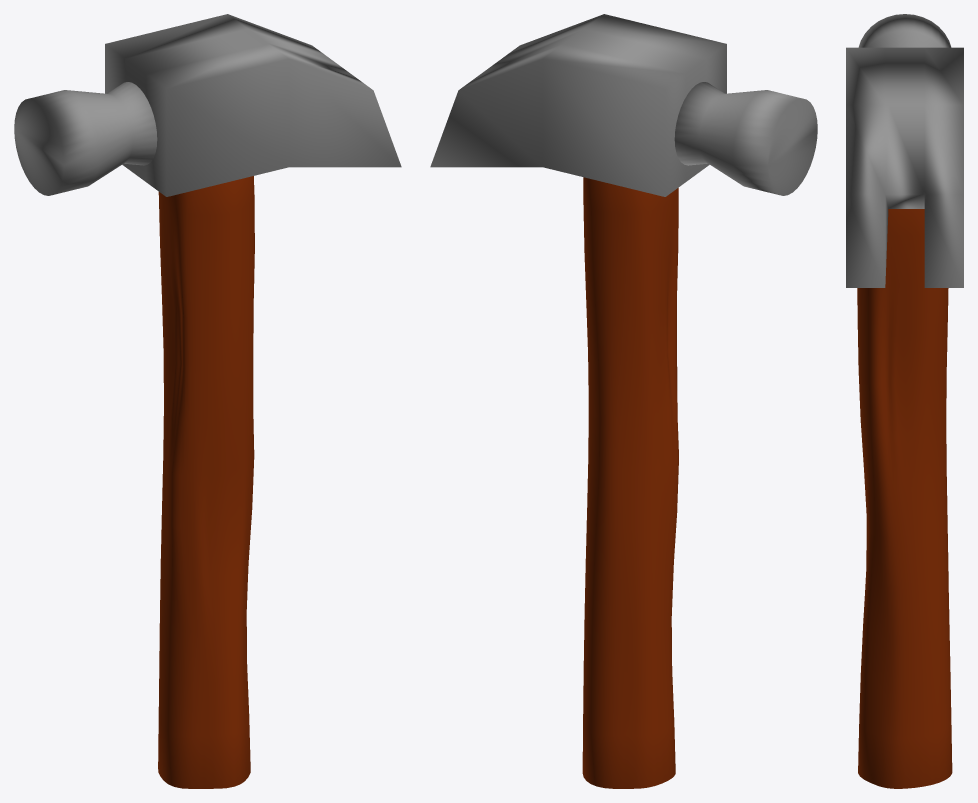
Rendered from hammer.fbx.
3 views of the same model, side by side, from view 1: azimuth 30°, elevation 25°; view 2: azimuth 150°, elevation 25°; view 3: azimuth 270°, elevation 25° (orthographic). The views are drawn at different scales.
Visible parts, largest first — view 1: Hammer; view 2: Hammer; view 3: Hammer.
Boxes of the visible parts, x1,y1,x2,y2 form: Hammer: (14, 14, 401, 788); Hammer: (430, 14, 817, 788); Hammer: (846, 14, 963, 788).
Size of the model in its own units: 439 by 911 by 141.
